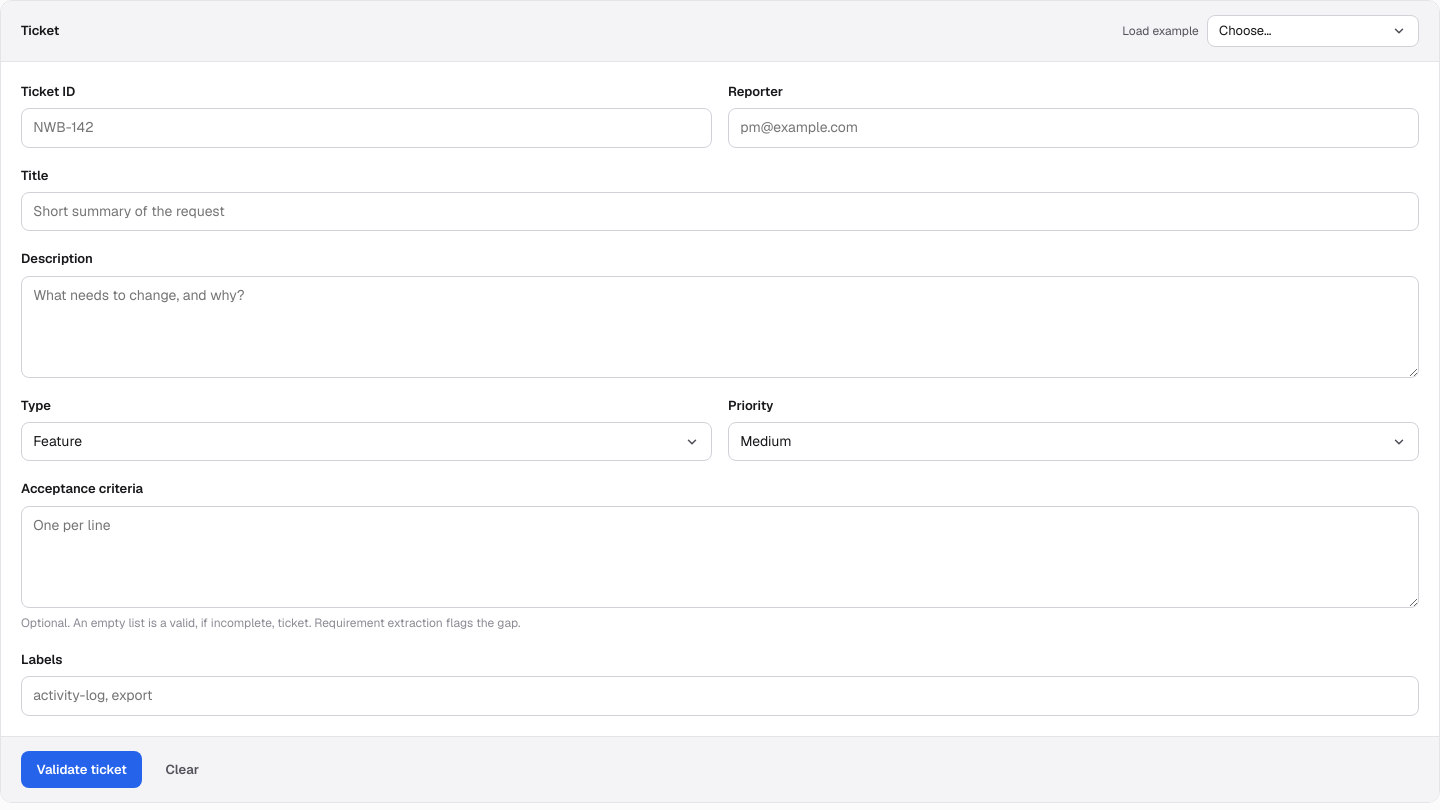
Test: TicketIntakeForm › loads an example fixture into the form
The image size is (1440, 810).
Select "Clear feature request" in the dropdown labelled "Load example" at (1313, 31), box [1207,15,1419,47]
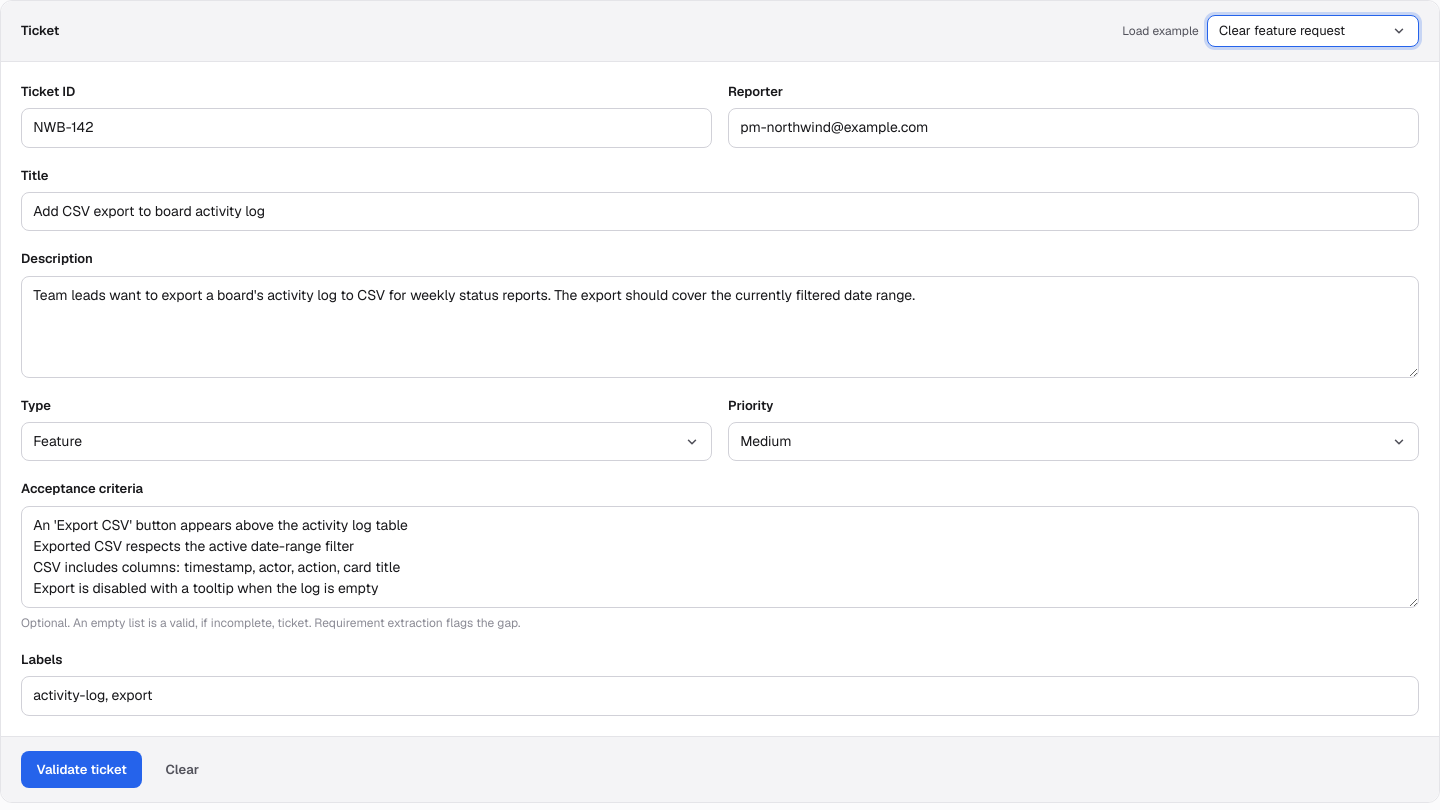
Result: the field labelled "Title" holds "Add CSV export to board activity log" at [21,192,1419,231]
